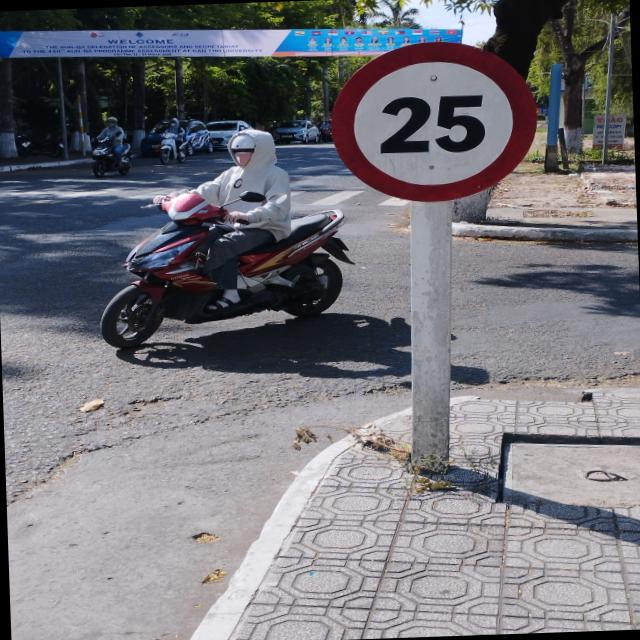Tre_Em: (327, 36, 540, 205)
